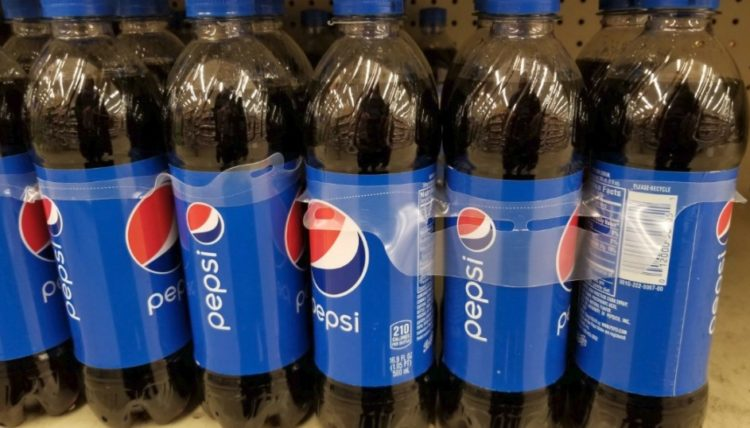pepsi: (308, 196, 369, 296), (122, 185, 178, 272), (185, 200, 225, 244), (456, 207, 494, 253), (40, 191, 62, 235)
